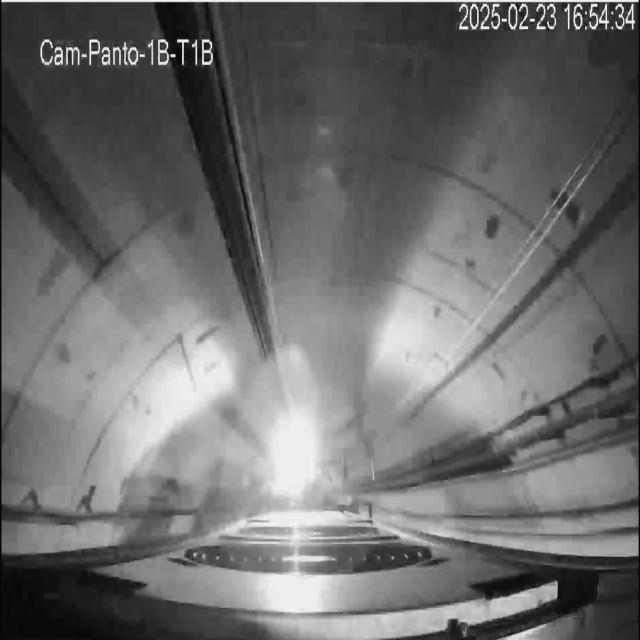Camera Stamp: (39, 33, 220, 69)
Date Stamp: (459, 3, 637, 33)
Sparks: (263, 402, 323, 502)
